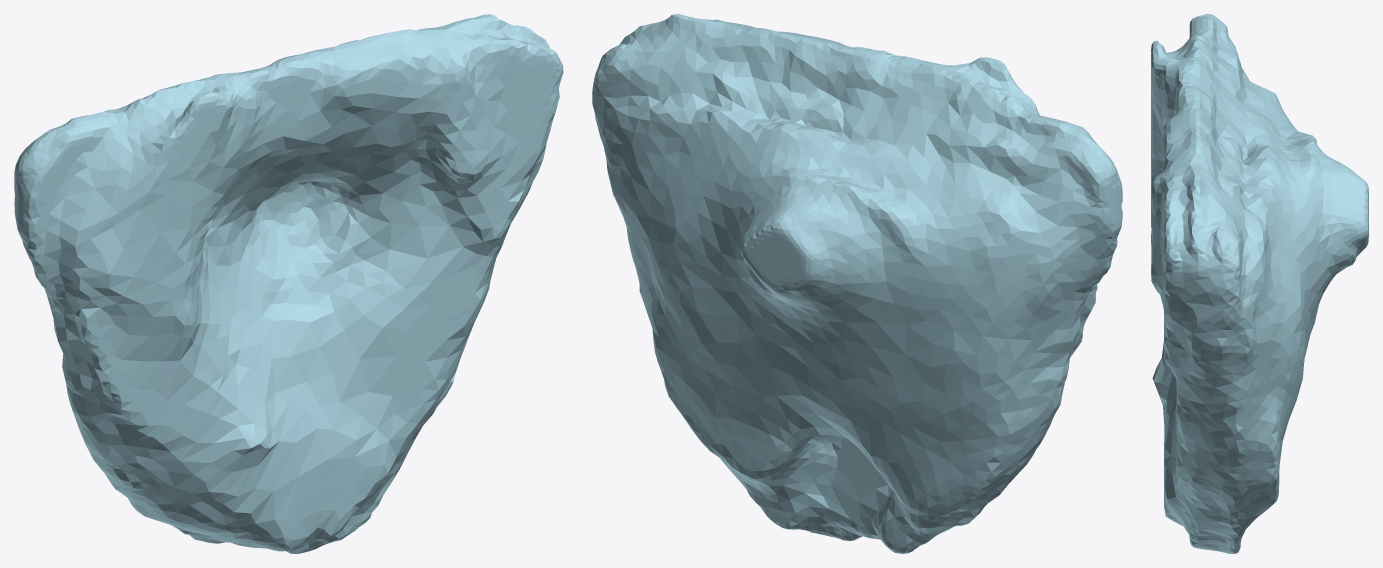
The model's file is bladder.obj.
3 renders of one model, left to right at view 1: azimuth 30°, elevation 25°; view 2: azimuth 150°, elevation 25°; view 3: azimuth 270°, elevation 25°, orthographic. The views are drawn at different scales.
Visible parts, largest first — view 1: grp1; view 2: grp1; view 3: grp1.
Boxes of the visible parts, x1,y1,x2,y2 form: grp1: (14,14,563,553); grp1: (592,14,1122,553); grp1: (1151,14,1368,553).
Bounding box in the file's own units: 84.31 × 77 × 34.
